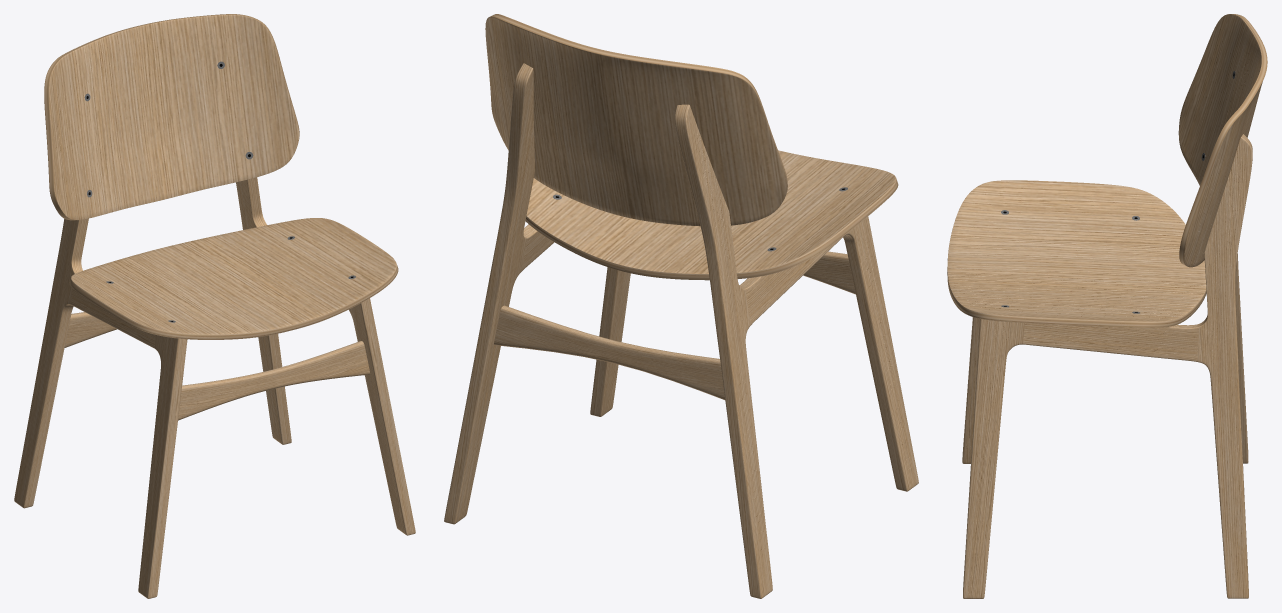
Rendered from home-chair1.glb.
The picture shows the model from 3 angles, left to right: view 1: azimuth 30°, elevation 25°; view 2: azimuth 150°, elevation 25°; view 3: azimuth 270°, elevation 25°; orthographic projection. The views are drawn at different scales.
Parts seen in each view (by area): view 1: ChairBase_WoodMaterial_0; view 2: ChairBase_WoodMaterial_0; view 3: ChairBase_WoodMaterial_0.
Boxes of the visible parts, bbox=[...] form: ChairBase_WoodMaterial_0: bbox=[14, 14, 415, 598]; ChairBase_WoodMaterial_0: bbox=[444, 14, 918, 598]; ChairBase_WoodMaterial_0: bbox=[947, 14, 1267, 598].
Bounding box in the file's own units: 0.5829 × 0.9089 × 0.5631.
Materials: 3 (1 with a texture image).
